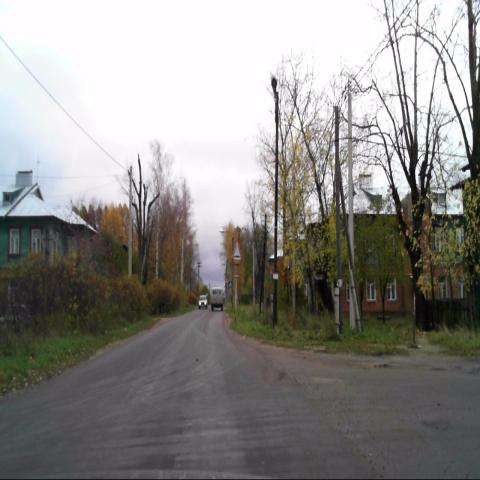1_17: (230, 242, 243, 262)
